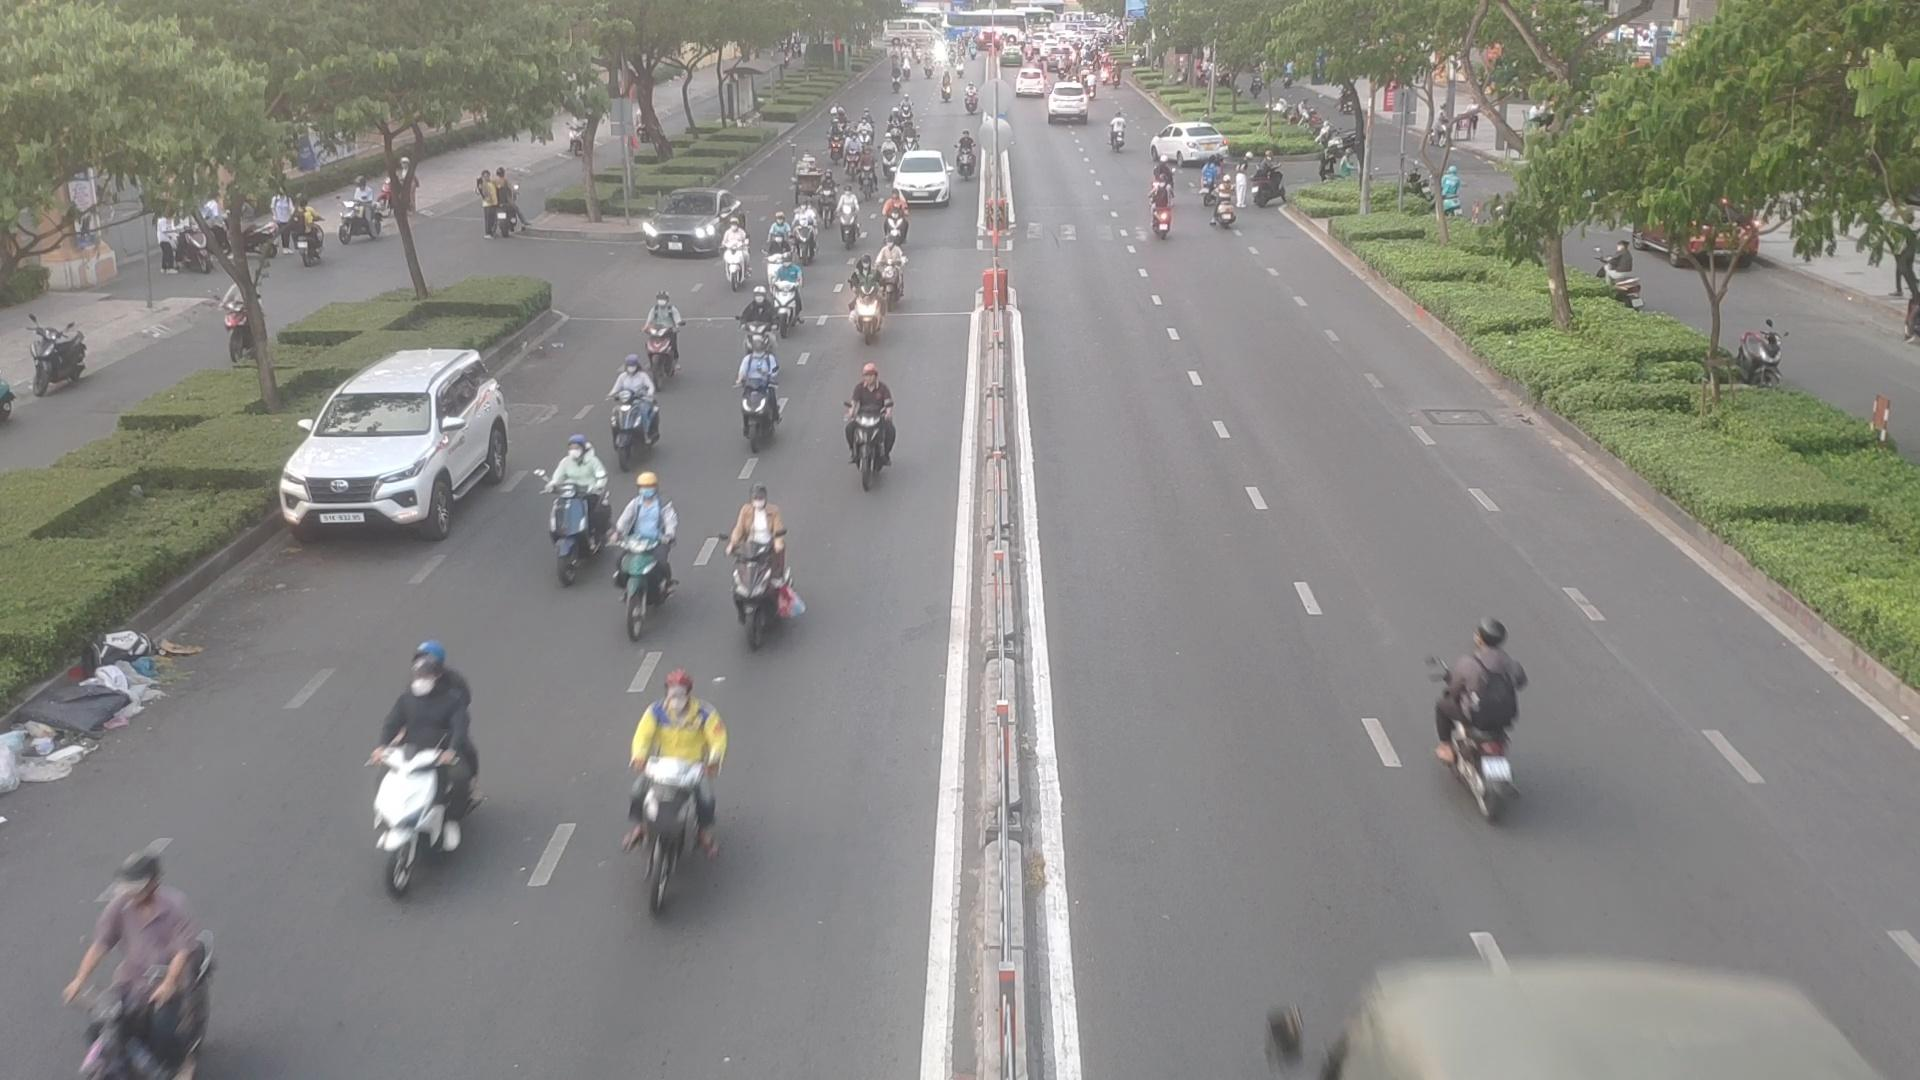car: (281, 352, 513, 545), (641, 189, 738, 260), (1151, 116, 1237, 173), (891, 149, 956, 206)
motorbike: (66, 858, 215, 1073), (363, 651, 483, 914), (1425, 603, 1523, 816), (641, 673, 709, 910), (727, 488, 789, 654), (622, 473, 679, 636), (547, 446, 603, 607), (601, 359, 658, 465), (848, 364, 893, 468), (740, 342, 781, 454), (640, 299, 687, 382), (843, 261, 880, 344), (872, 235, 909, 307), (738, 285, 775, 349), (721, 214, 750, 291), (775, 262, 807, 334), (1149, 179, 1171, 240), (1201, 152, 1224, 212), (837, 189, 858, 247), (881, 190, 906, 237), (795, 206, 815, 260), (959, 135, 977, 179), (822, 174, 837, 225), (901, 123, 920, 162), (829, 115, 847, 157), (862, 148, 877, 195), (847, 135, 861, 179), (855, 117, 872, 152), (1222, 175, 1233, 225), (881, 135, 894, 171)
